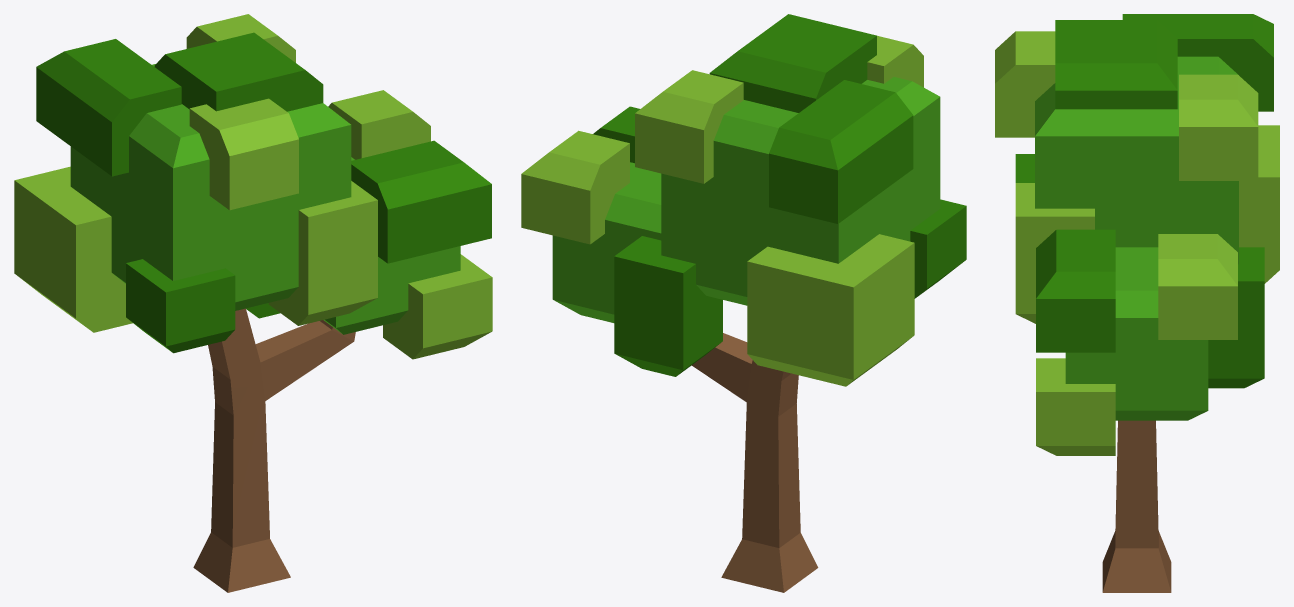
File: Tree2.fbx
The picture shows the model from 3 angles, left to right: view 1: azimuth 30°, elevation 25°; view 2: azimuth 150°, elevation 25°; view 3: azimuth 270°, elevation 25°; orthographic projection.
Parts seen in each view (by area): view 1: Tree_02; view 2: Tree_02; view 3: Tree_02.
Boxes of the visible parts, left/top/right/bottom form: Tree_02: left=14, top=14, right=492, bottom=592; Tree_02: left=521, top=14, right=966, bottom=592; Tree_02: left=995, top=14, right=1279, bottom=592.
Bounding box in the file's own units: 57.46 × 81.38 × 40.
Materials: 1 (1 with a texture image).
